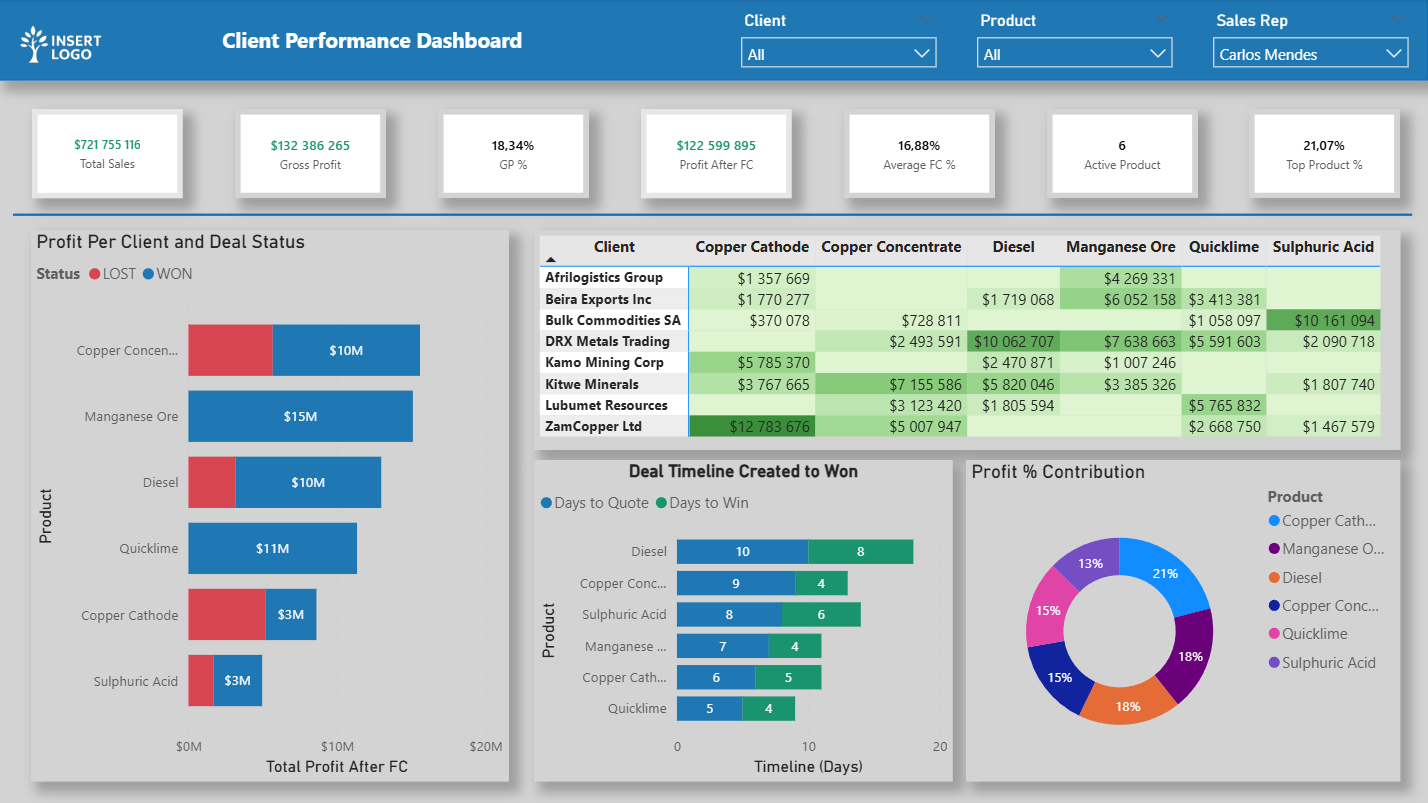

This screenshot's page, from the dashboard's own definition file:
{"tool":"powerbi","page":{"name":"Product Performance","canvas":[1280,720],"ordinal":3},"visuals":[{"type":"cardVisual","fields":{"Data":["Measure_Tbl.GP %"]},"box":[393,98.5,135,80.1],"z":0},{"type":"cardVisual","fields":{"Data":["Sum(Measure_Tbl.Active Product)"]},"box":[938.1,98.5,135,80.1],"z":1000},{"type":"cardVisual","fields":{"Data":["Measure_Tbl.Total Gross Profit"]},"box":[211.3,98.5,135,80.1],"z":2000},{"type":"slicer","fields":{"Values":["client.client_name"]},"box":[654.6,5.8,194.5,61.3],"z":3000,"group":"g1"},{"type":"cardVisual","fields":{"Data":["Measure_Tbl.Average PFC"]},"box":[756.4,98.5,135,80.1],"z":3000},{"type":"slicer","fields":{"Values":["product.product_name"]},"box":[866.2,5.8,194.5,61.3],"z":4000,"group":"g1"},{"type":"cardVisual","fields":{"Data":["Measure_Tbl.Total Sales"]},"box":[29.5,98.5,135.4,80.1],"z":4000},{"type":"slicer","fields":{"Values":["sales_rep.sales_rep_name"]},"box":[1077.7,5.8,194.5,61.3],"z":5000,"group":"g1"},{"type":"cardVisual","fields":{"Data":["Measure_Tbl.Total Profit After FC"]},"box":[574.7,98.5,135,80.1],"z":5000},{"type":"cardVisual","fields":{"Data":["Measure_Tbl.Top Product Contribution"]},"box":[1119.8,98.5,135,80.1],"z":6000},{"type":"shape","box":[12.9,186,1253.3,13.8],"z":7000},{"type":"shape","title":"12-Week Rolling Cashflow Dashboard.","box":[0,0,1280,72.9],"z":8000},{"type":"group","id":"g1","title":"Group 1","box":[654.6,5.8,617.6,61.3],"z":9000},{"type":"image","box":[0,0,110,85],"z":10000},{"type":"barChart","title":"Profit Per Client and Deal Status","fields":{"Y":["Measure_Tbl.Total Profit After FC"],"Series":["deal_status.status_code"],"Category":["product.product_name"]},"box":[28.8,207.2,428.2,493.8],"z":11000},{"type":"pivotTable","fields":{"Rows":["client.client_name"],"Columns":["product.product_name"],"Values":["Sum(deal.profit_after_fc)"]},"box":[478.8,207.2,775.8,196.8],"z":12000},{"type":"barChart","title":"Deal Timeline Created to Won","fields":{"Y":["Measure_Tbl.Days to Quote","Measure_Tbl.Days to Win"],"Category":["product.product_name"]},"box":[478.8,413.2,375.3,287.8],"z":13000},{"type":"donutChart","title":"Profit % Contribution","fields":{"Y":["Sum(deal.profit_after_fc)"],"Category":["product.product_name"]},"box":[865.6,413.2,389.1,287.8],"z":14000}]}

Visuals, with their boxes in screenshot pixels (x1, y1, x2, y2), scaled from the page's 1280x720 canvas onto the 1428x803 screenshot:
cardVisual - Measure_Tbl.GP %: 438,110,589,199
cardVisual - Sum(Measure_Tbl.Active Product): 1047,110,1197,199
cardVisual - Measure_Tbl.Total Gross Profit: 236,110,386,199
slicer - client.client_name: 730,6,947,75
cardVisual - Measure_Tbl.Average PFC: 844,110,994,199
slicer - product.product_name: 966,6,1183,75
cardVisual - Measure_Tbl.Total Sales: 33,110,184,199
slicer - sales_rep.sales_rep_name: 1202,6,1419,75
cardVisual - Measure_Tbl.Total Profit After FC: 641,110,792,199
cardVisual - Measure_Tbl.Top Product Contribution: 1249,110,1400,199
shape: 14,207,1413,223
"12-Week Rolling Cashflow Dashboard." shape: 0,0,1427,81
"Group 1" group: 730,6,1419,75
image: 0,0,123,95
"Profit Per Client and Deal Status" barChart: 32,231,510,782
pivotTable - client.client_name x product.product_name: 534,231,1400,451
"Deal Timeline Created to Won" barChart: 534,461,953,782
"Profit % Contribution" donutChart: 966,461,1400,782
